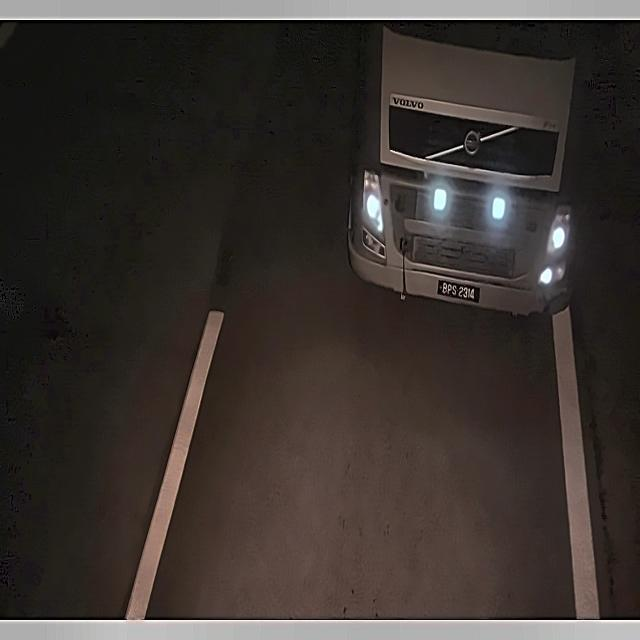car: (432, 277, 482, 310)
